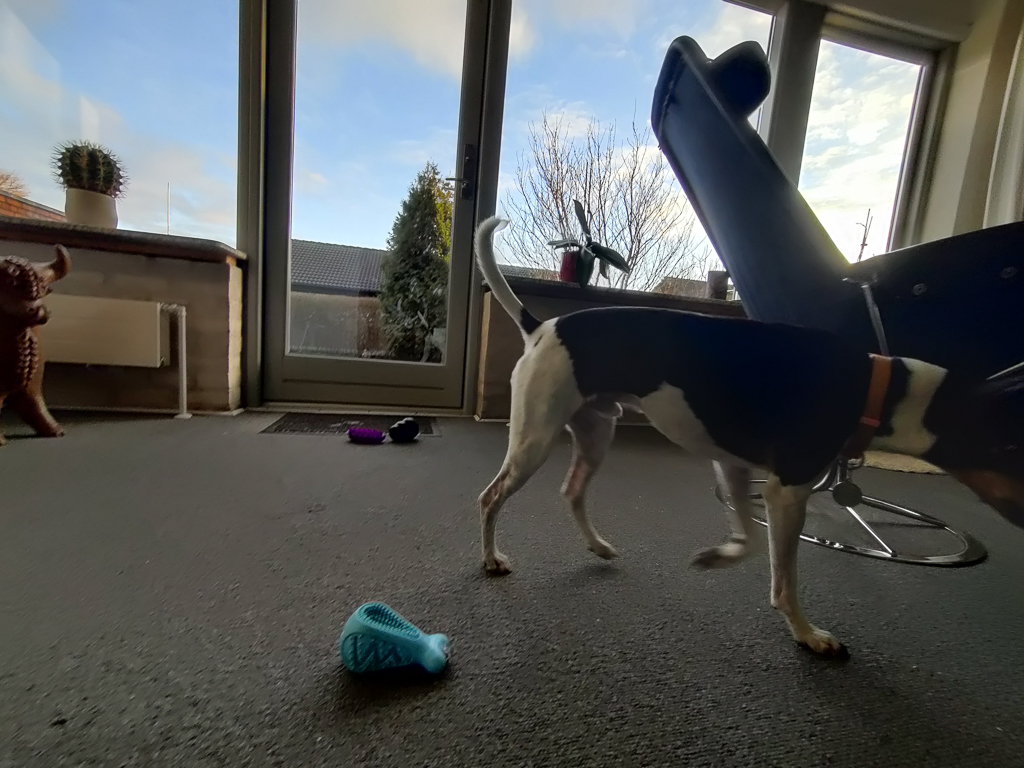Cattle: (0, 225, 89, 446)
Dog: (466, 204, 1024, 663)
